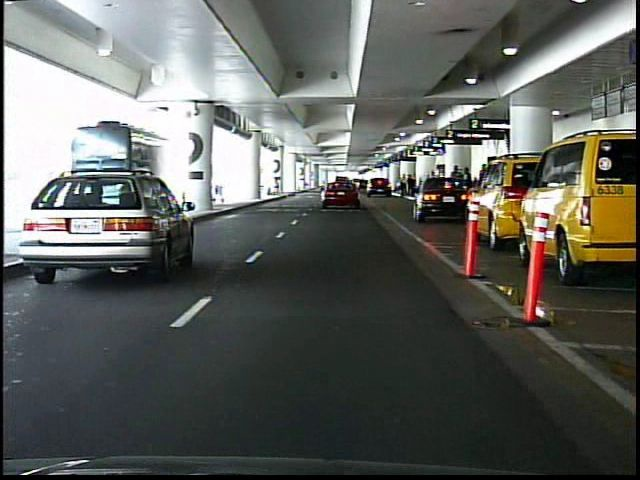person: (448, 163, 465, 207), (462, 166, 476, 207), (400, 172, 409, 196), (408, 173, 416, 196)
